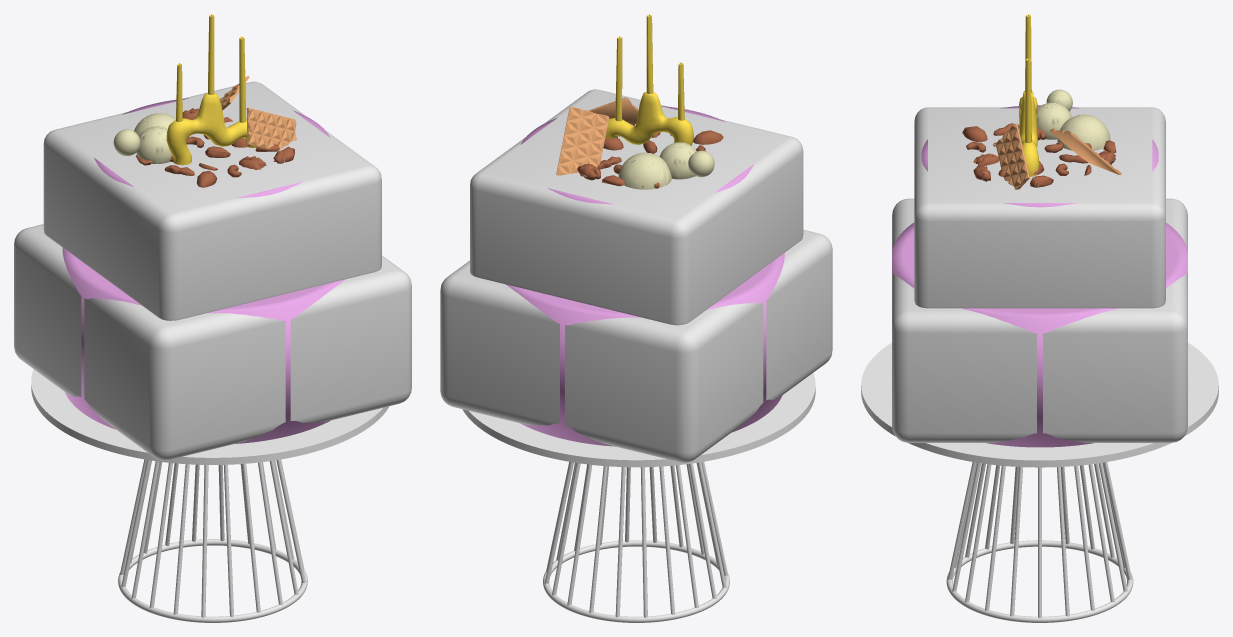
File: tier2.gltf
The picture shows the model from 3 angles, left to right: view 1: azimuth 30°, elevation 25°; view 2: azimuth 150°, elevation 25°; view 3: azimuth 270°, elevation 25°; orthographic projection.
Visible parts, largest first — view 1: Rectangle1st_layer, Rectangle2nd_layer, Base-2, round1st_layer, chandel, nuts, balls, bar, round2nd_layer; view 2: Rectangle1st_layer, Rectangle2nd_layer, Base-2, round1st_layer, chandel, bar, balls, nuts, round2nd_layer; view 3: Rectangle2nd_layer, Rectangle1st_layer, Base-2, round1st_layer, nuts, balls, bar, chandel, round2nd_layer.
Boxes of the visible parts, bbox=[...] form: Rectangle1st_layer: bbox=[14, 224, 411, 460]; Rectangle2nd_layer: bbox=[43, 81, 381, 320]; Base-2: bbox=[31, 369, 389, 622]; round1st_layer: bbox=[62, 247, 345, 443]; chandel: bbox=[166, 14, 256, 165]; nuts: bbox=[136, 108, 294, 187]; balls: bbox=[113, 113, 175, 163]; bar: bbox=[219, 76, 296, 149]; round2nd_layer: bbox=[94, 98, 330, 198]; Rectangle1st_layer: bbox=[440, 229, 832, 462]; Rectangle2nd_layer: bbox=[470, 89, 803, 325]; Base-2: bbox=[462, 373, 815, 622]; round1st_layer: bbox=[506, 253, 784, 446]; chandel: bbox=[605, 14, 693, 145]; bar: bbox=[556, 97, 638, 175]; balls: bbox=[618, 142, 714, 189]; nuts: bbox=[577, 123, 723, 188]; round2nd_layer: bbox=[520, 106, 753, 204]; Rectangle2nd_layer: bbox=[914, 107, 1165, 308]; Rectangle1st_layer: bbox=[892, 198, 1187, 442]; Base-2: bbox=[861, 342, 1218, 622]; round1st_layer: bbox=[892, 222, 1187, 447]; nuts: bbox=[962, 123, 1116, 187]; balls: bbox=[1037, 89, 1110, 150]; bar: bbox=[996, 123, 1121, 189]; chandel: bbox=[1019, 14, 1039, 176]; round2nd_layer: bbox=[921, 105, 1158, 207].
Bounding box in the file's own units: 2.3 × 4.02 × 2.3.
